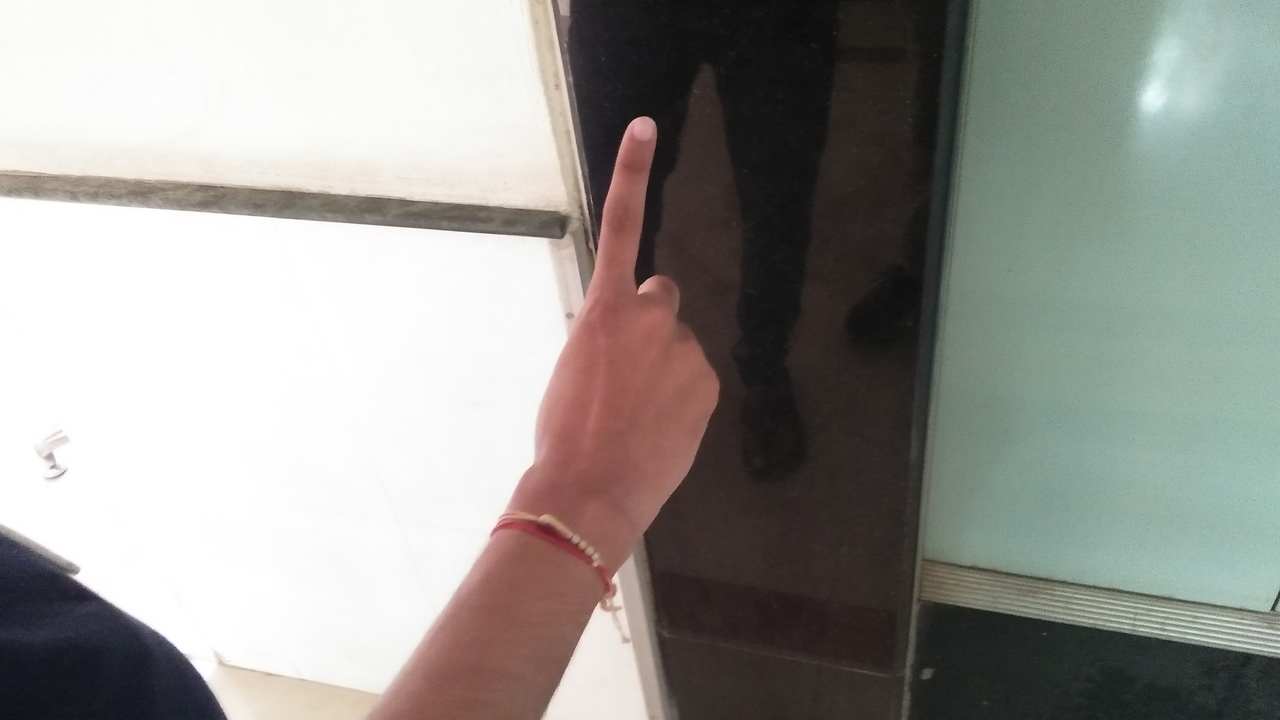fingertip: (608, 110, 662, 156)
